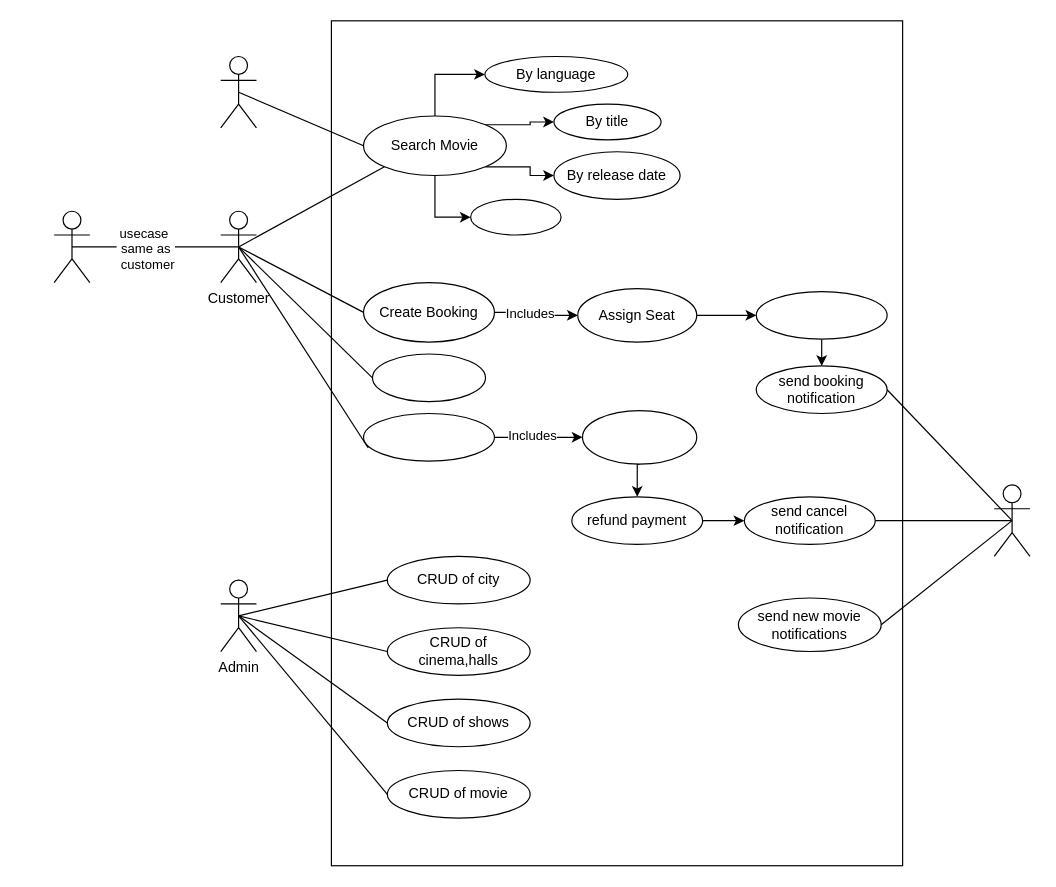
The diagram is 1056 pixels wide and 887 high, and some of its shapes have lost their labels. The shapes that lost their labels are listed below. From the top down, each one's centre as x and y in pixels, then its label:
(238,91): Guest
(515,216): By city
(71,246): Frontend Officer
(821,314): Make payment
(428,377): View booking
(428,436): cancel booking
(639,436): Release seat
(1011,520): System
